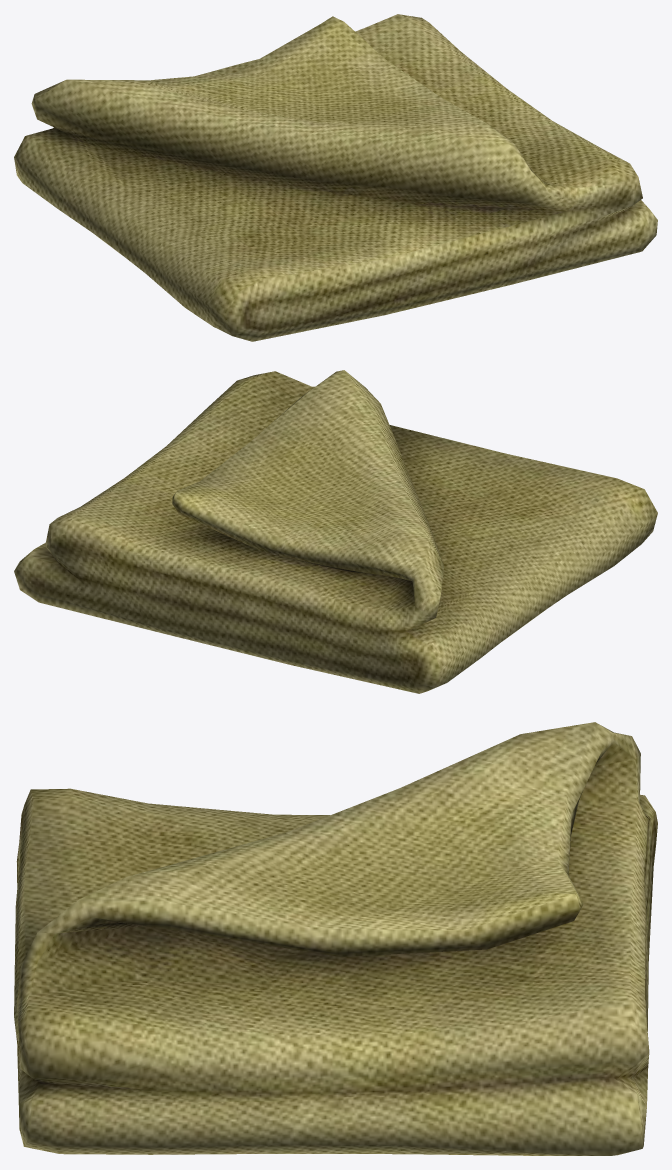
The picture shows the model from 3 angles, top to bottom: view 1: azimuth 30°, elevation 25°; view 2: azimuth 150°, elevation 25°; view 3: azimuth 270°, elevation 25°; orthographic projection. The views are drawn at different scales.
Visible parts, largest first — view 1: SM_Desert_Cloth_01_LOD0; view 2: SM_Desert_Cloth_01_LOD0; view 3: SM_Desert_Cloth_01_LOD0.
Boxes of the visible parts, x1,y1,x2,y2 form: SM_Desert_Cloth_01_LOD0: [14, 14, 657, 341]; SM_Desert_Cloth_01_LOD0: [14, 370, 657, 693]; SM_Desert_Cloth_01_LOD0: [14, 722, 657, 1155].
Bounding box in the file's own units: 0.5574 × 0.1525 × 0.4905.
1 material, 1 textured.
